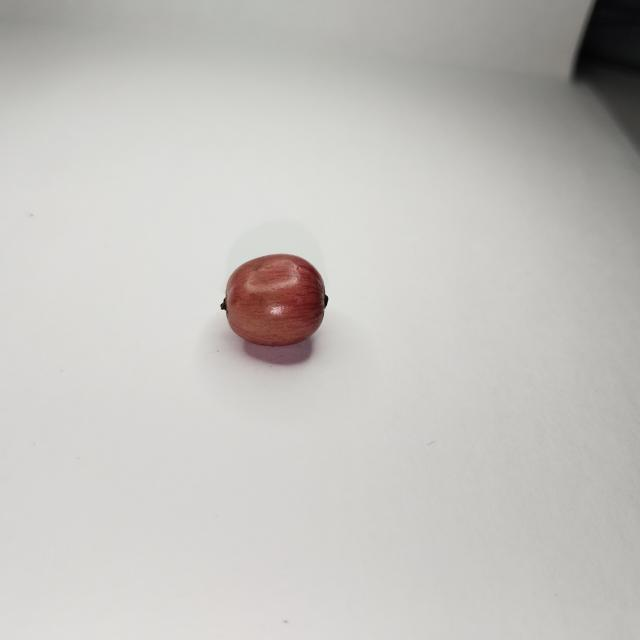Sano: (220, 253, 327, 347)
